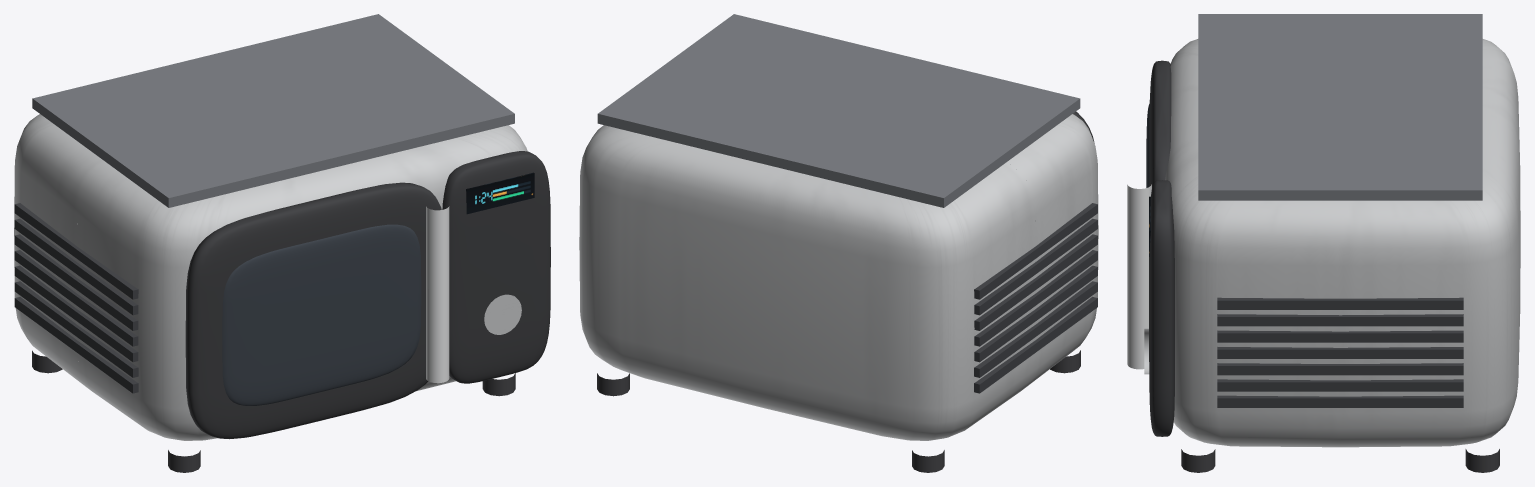
File: microwave-oven.glb
3 views of the same model, side by side, from view 1: azimuth 30°, elevation 25°; view 2: azimuth 150°, elevation 25°; view 3: azimuth 270°, elevation 25° (orthographic). The views are drawn at different scales.
Visible parts, largest first — view 1: vent, body, door-window, door, panel, side-vent (×7), handle, display, dial, foot; view 2: body, vent, side-vent (×7), foot (×2); view 3: body, vent, side-vent (×7), panel, handle, door, foot (×2).
Boxes of the visible parts, box(x1,y1,x2,y2) form: vent: box(32, 14, 514, 207); body: box(14, 114, 527, 440); door-window: box(222, 224, 421, 405); door: box(185, 182, 441, 439); panel: box(442, 151, 550, 383); side-vent (×7): box(14, 203, 138, 393); handle: box(426, 206, 449, 383); display: box(466, 172, 534, 214); dial: box(484, 294, 521, 334); foot: box(168, 450, 200, 472); body: box(579, 114, 1098, 440); vent: box(597, 14, 1080, 207); side-vent (×7): box(974, 203, 1097, 393); foot (×2): box(597, 373, 944, 472); body: box(1165, 39, 1520, 447); vent: box(1198, 14, 1482, 200); side-vent (×7): box(1217, 297, 1463, 407); panel: box(1149, 180, 1174, 436); handle: box(1127, 184, 1151, 369); door: box(1149, 60, 1171, 187); foot (×2): box(1181, 449, 1499, 472).
Size of the model in its own units: 0.508 by 0.33 by 0.415.
Materials: 8 (2 with a texture image).
